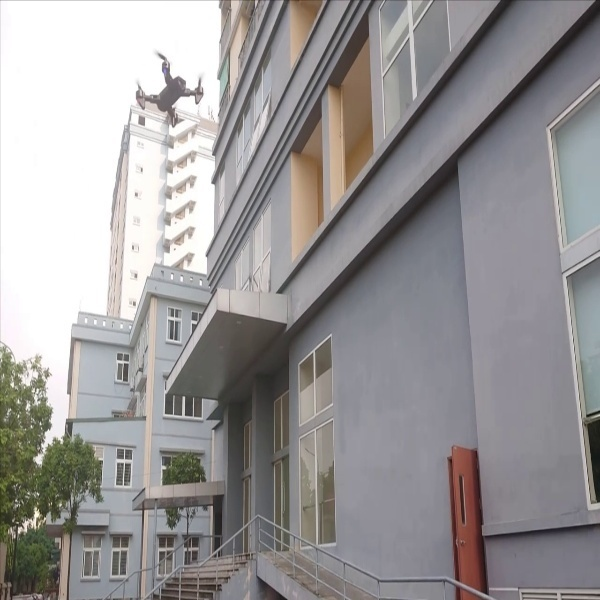drone: (122, 44, 209, 135)
